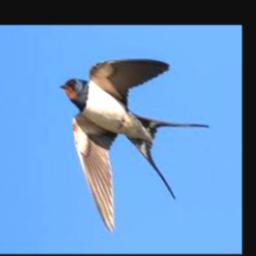Swallow: (60, 58, 209, 231)
